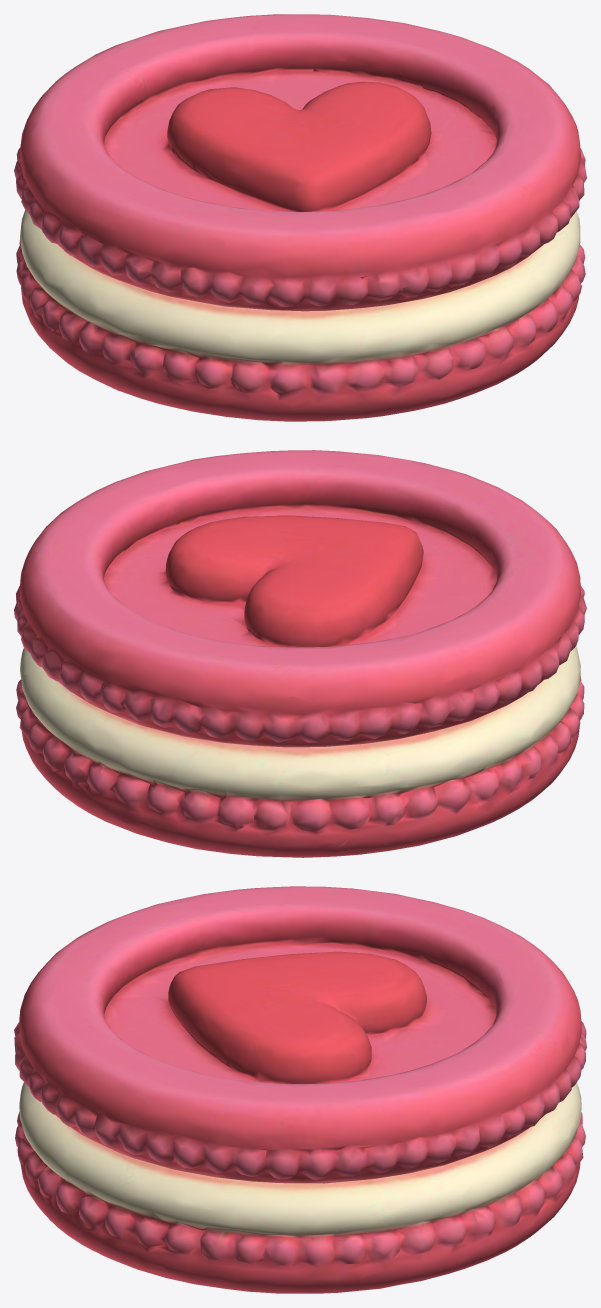
File: puck-macaron.glb
3 renders of one model, top to bottom at view 1: azimuth 30°, elevation 25°; view 2: azimuth 150°, elevation 25°; view 3: azimuth 270°, elevation 25°, orthographic.
Visible parts, largest first — view 1: tripo_node_6319b1e6-c4df-42a8-b913-53f68f66d4f8; view 2: tripo_node_6319b1e6-c4df-42a8-b913-53f68f66d4f8; view 3: tripo_node_6319b1e6-c4df-42a8-b913-53f68f66d4f8.
Part boxes in pixels (x1,y1,x2,y2): tripo_node_6319b1e6-c4df-42a8-b913-53f68f66d4f8: (14, 14, 586, 421); tripo_node_6319b1e6-c4df-42a8-b913-53f68f66d4f8: (14, 450, 586, 857); tripo_node_6319b1e6-c4df-42a8-b913-53f68f66d4f8: (14, 886, 586, 1293).
Bounding box in the file's own units: 1 × 0.3747 × 0.9967.
Materials: 1 (1 with a texture image).
